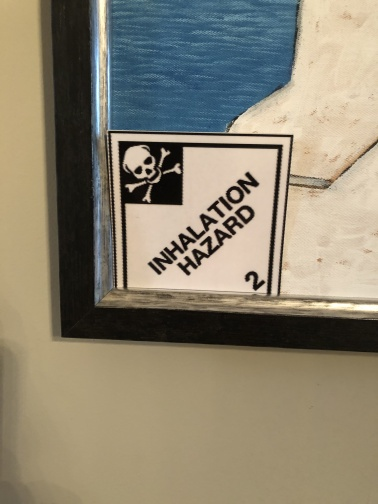InhalationHazard: (106, 130, 296, 297)
